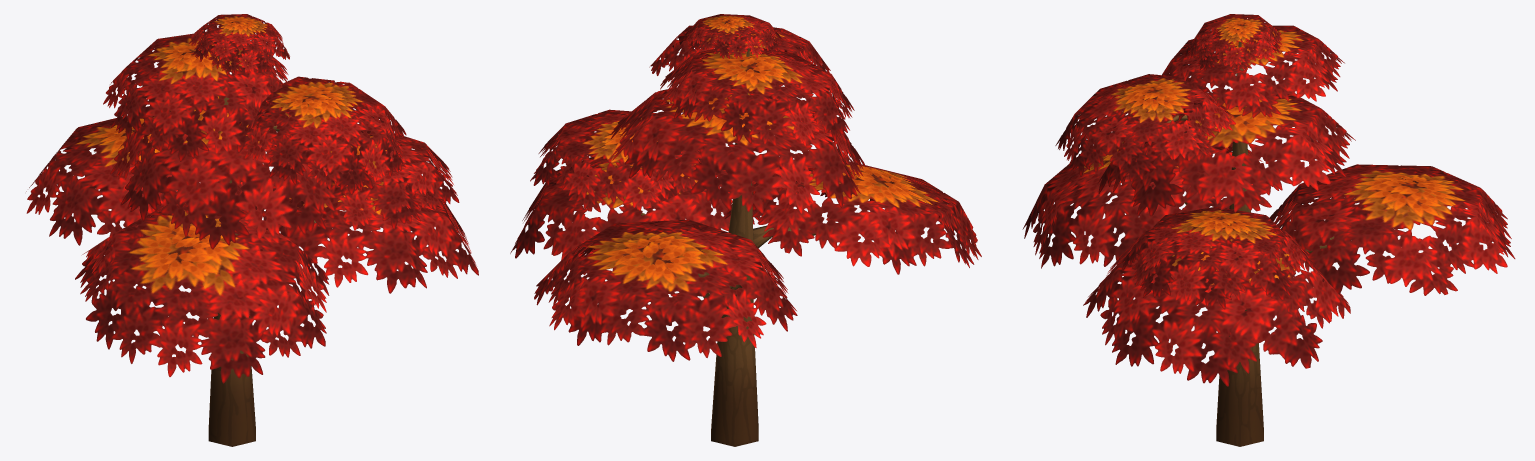
File: Tree_05a.FBX
3 views of the same model, side by side, from view 1: azimuth 30°, elevation 25°; view 2: azimuth 150°, elevation 25°; view 3: azimuth 270°, elevation 25° (orthographic).
Visible parts, largest first — view 1: Tree_05a; view 2: Tree_05a; view 3: Tree_05a.
Part boxes in pixels (bbox=[...]): Tree_05a: bbox=[26, 14, 478, 446]; Tree_05a: bbox=[510, 14, 981, 446]; Tree_05a: bbox=[1022, 14, 1515, 446].
Size of the model in its own units: 119 by 113 by 124.
Materials: 1 (1 with a texture image).
